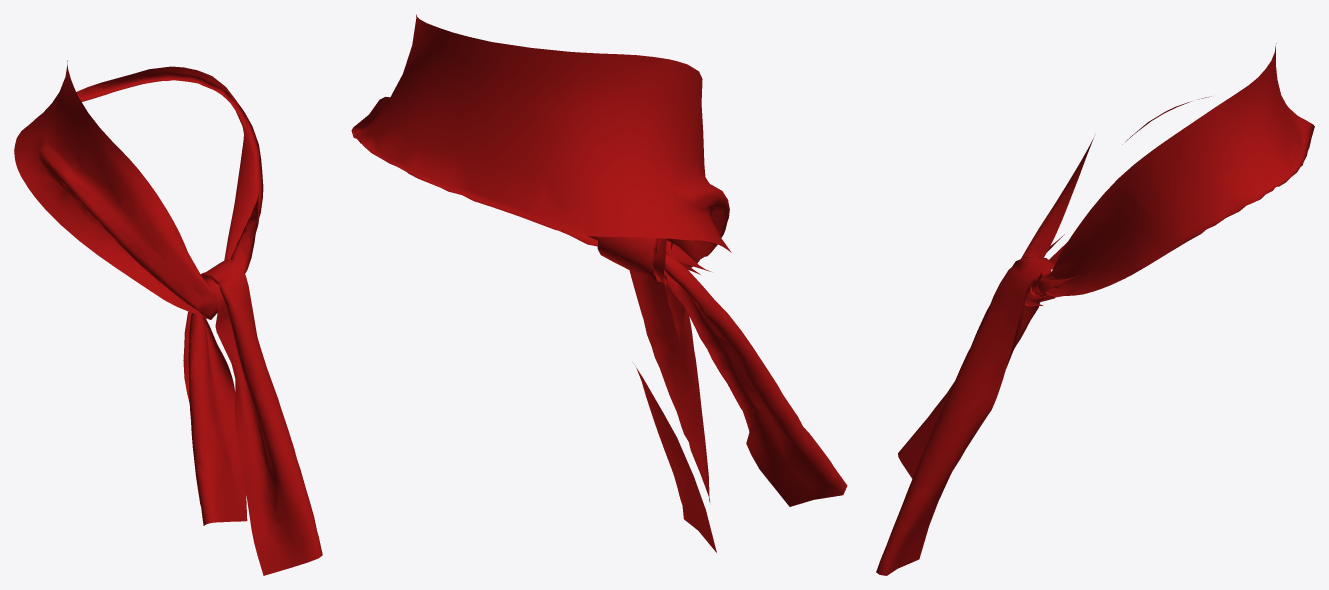
Rendered from outfit_neckerchief.glb.
3 views of the same model, side by side, from view 1: azimuth 30°, elevation 25°; view 2: azimuth 150°, elevation 25°; view 3: azimuth 270°, elevation 25° (orthographic). The views are drawn at different scales.
Parts seen in each view (by area): view 1: outfit_neckerchief; view 2: outfit_neckerchief; view 3: outfit_neckerchief.
Part boxes in pixels (bbox=[...]): outfit_neckerchief: bbox=[14, 60, 322, 575]; outfit_neckerchief: bbox=[351, 14, 847, 552]; outfit_neckerchief: bbox=[876, 43, 1314, 575].
Bounding box in the file's own units: 0.1556 × 0.3 × 0.2262.
